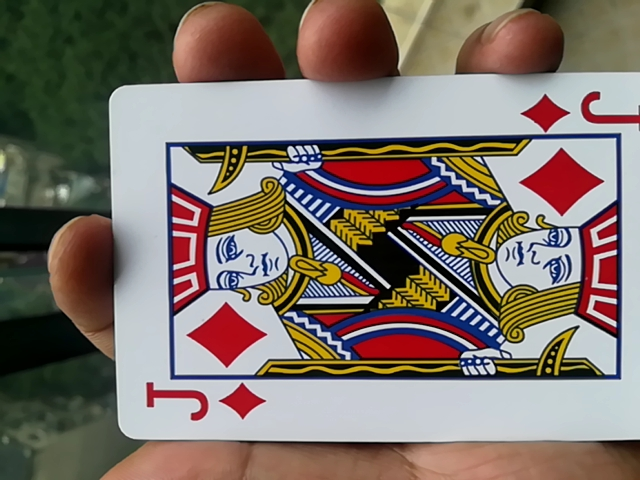fk j: (97, 98, 636, 460)
